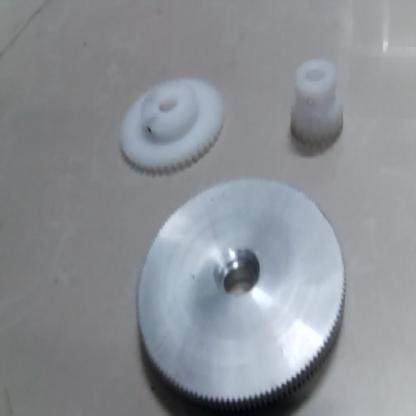FOD: (128, 181, 348, 408), (112, 75, 230, 192), (280, 60, 347, 158)
